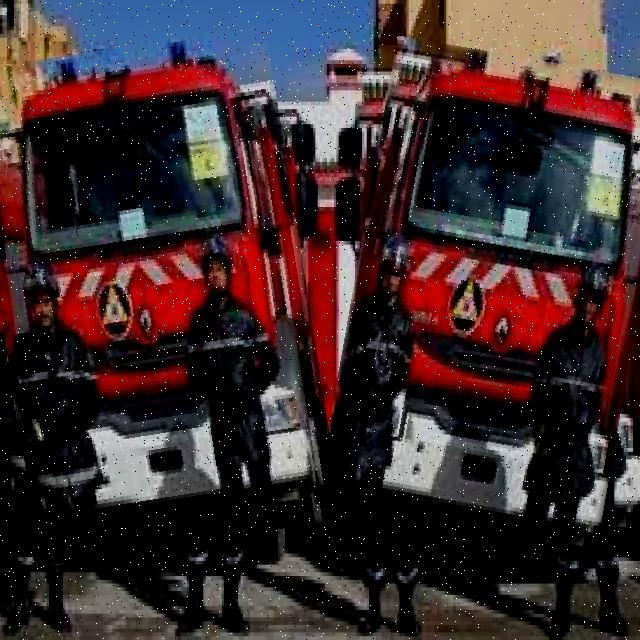pompier: (0, 34, 325, 556), (336, 45, 640, 541)
